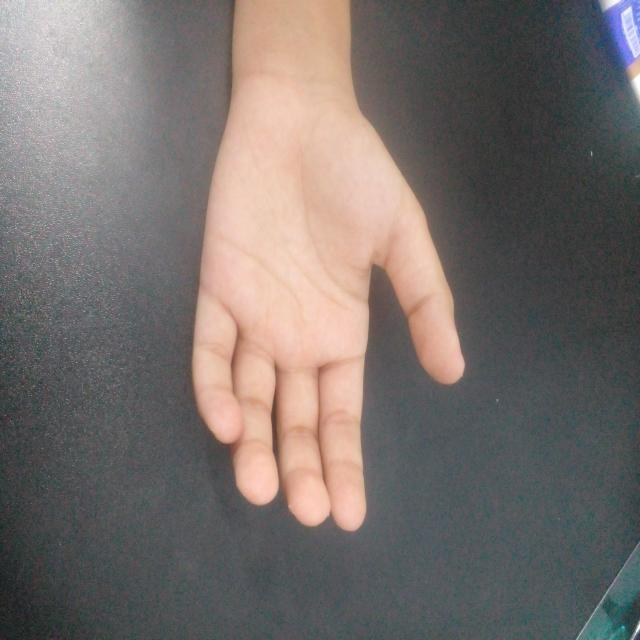Open Hand: (189, 94, 471, 533)
